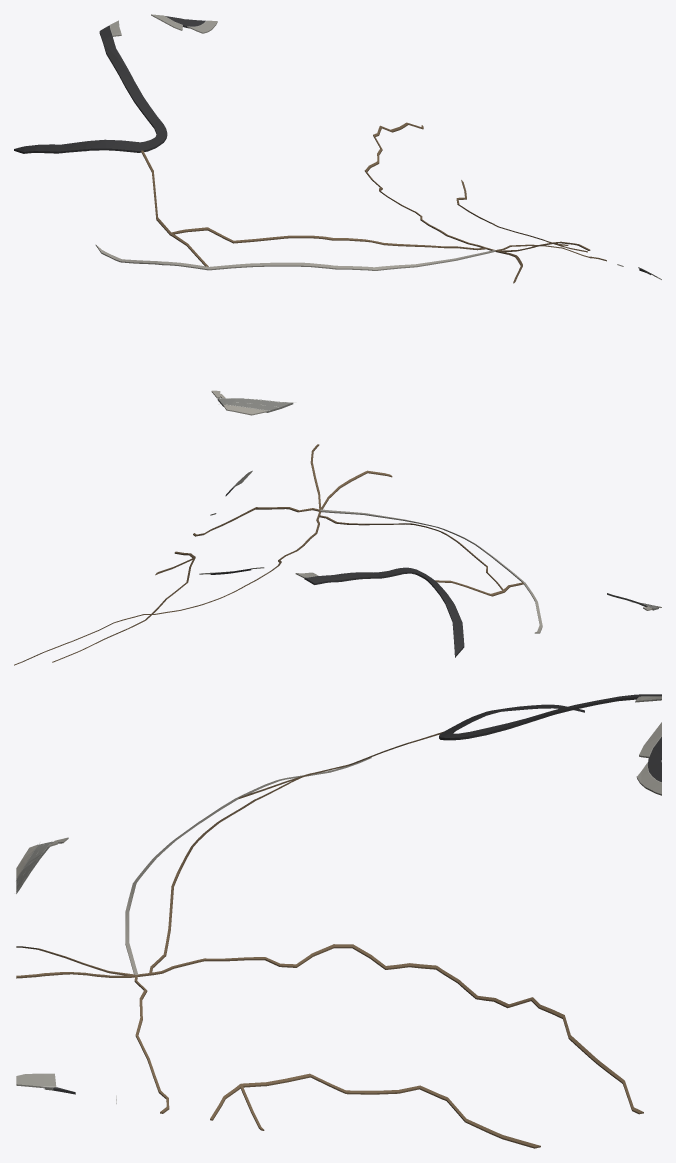
3 renders of one model, top to bottom at view 1: azimuth 30°, elevation 25°; view 2: azimuth 150°, elevation 25°; view 3: azimuth 270°, elevation 25°, orthographic. The views are drawn at different scales.
Bounding box in the file's own units: 296 × 130 × 293.
